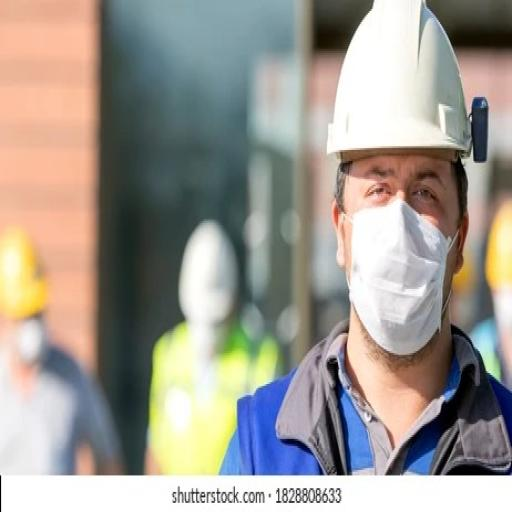mask: (349, 202, 445, 352)
